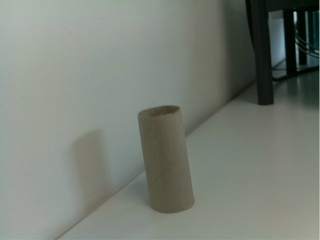rollo papel: (135, 104, 197, 216)
